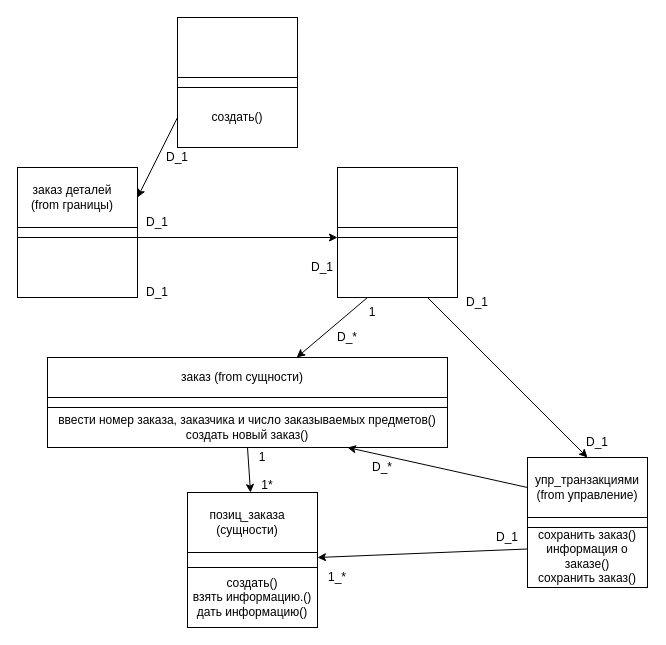
Image size: 666x645. Some labels were removed from this diagram. Each missing label, with the box of its shape:
выбор заказа (from границы): (176, 16, 298, 78)
открыть() сохранить заказ(): (16, 236, 138, 298)
сохранить заказ(): (336, 236, 458, 298)
Упр_заказами (from управление): (336, 166, 458, 228)
